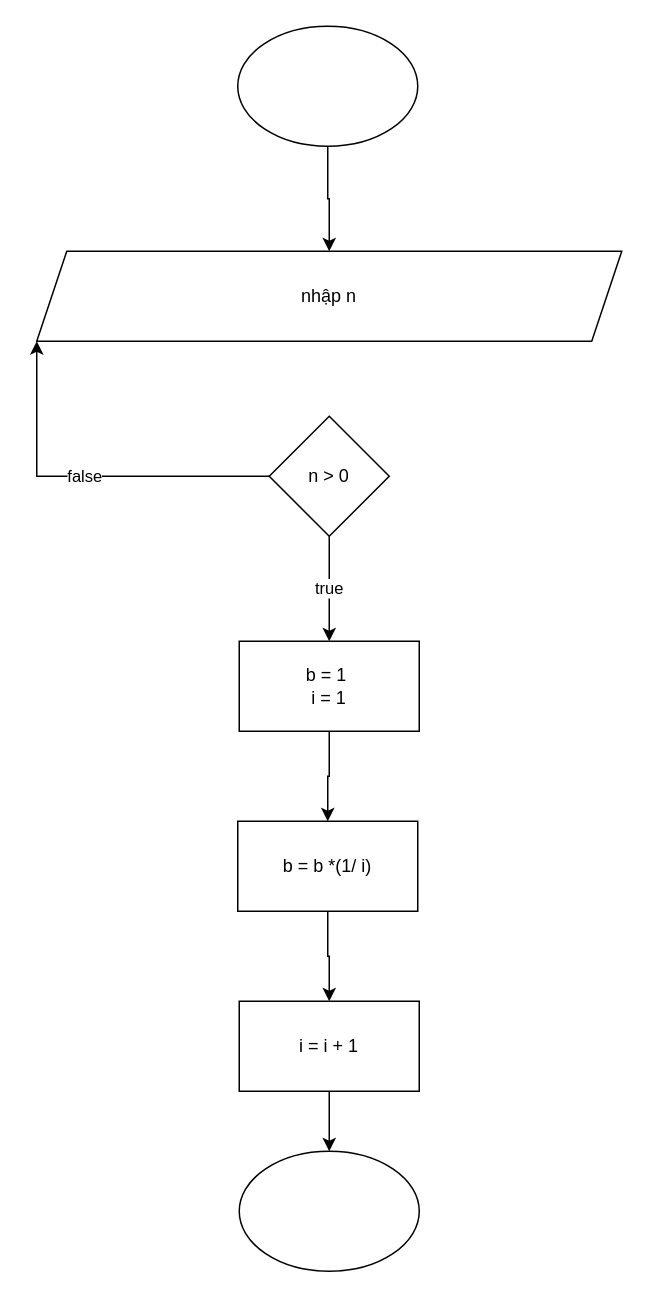
Image size: 648x1298. Some labels were removed from this diagram. The shapes that lost their labels are listed below. From the top down, each one's centre as x and y in pixels, then its label:
the point at 327,85: begin
the point at 328,1210: end
